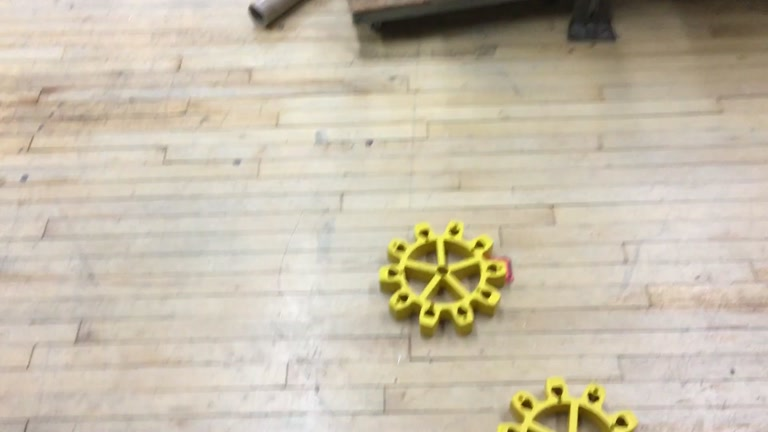gear: (376, 218, 510, 338), (497, 375, 649, 432)
